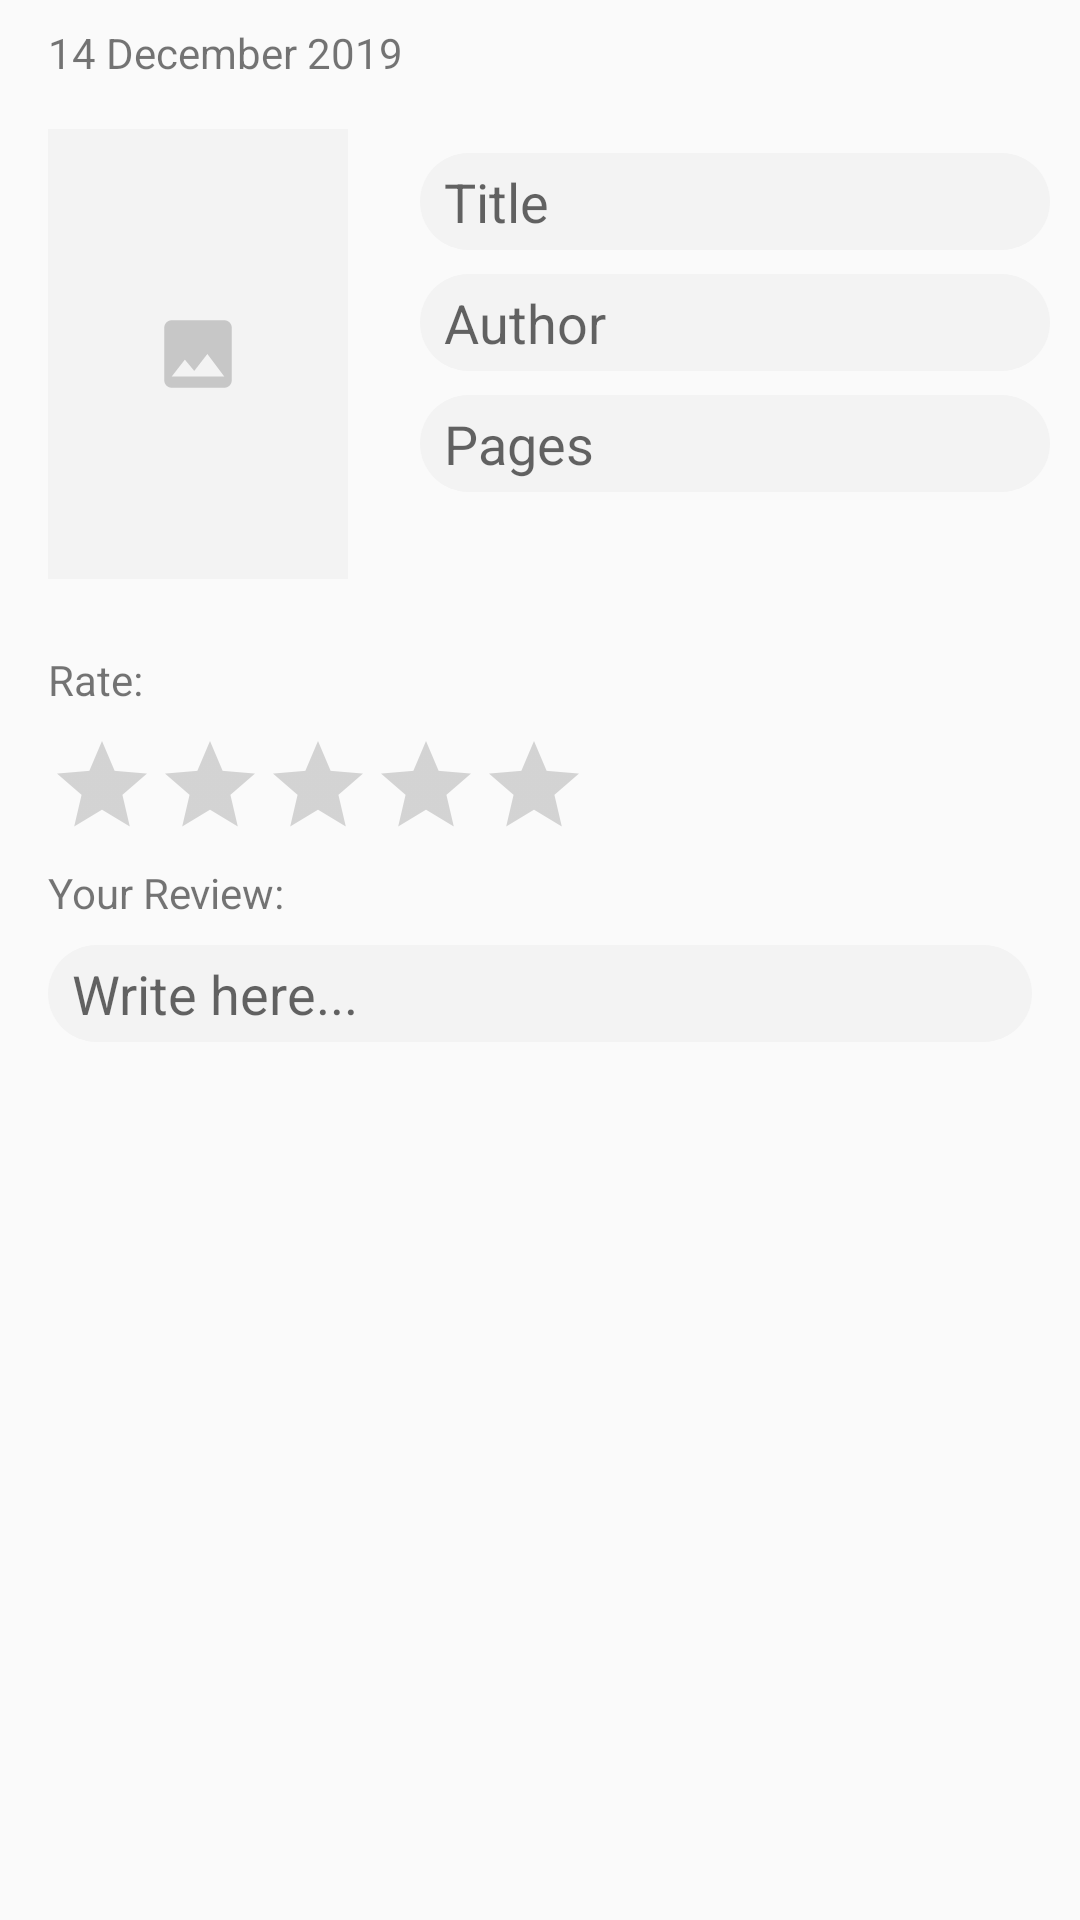

Screen size 1080x1920. Icon name, then its center in pixels as [x,y]:
insert photo: [198,354]
